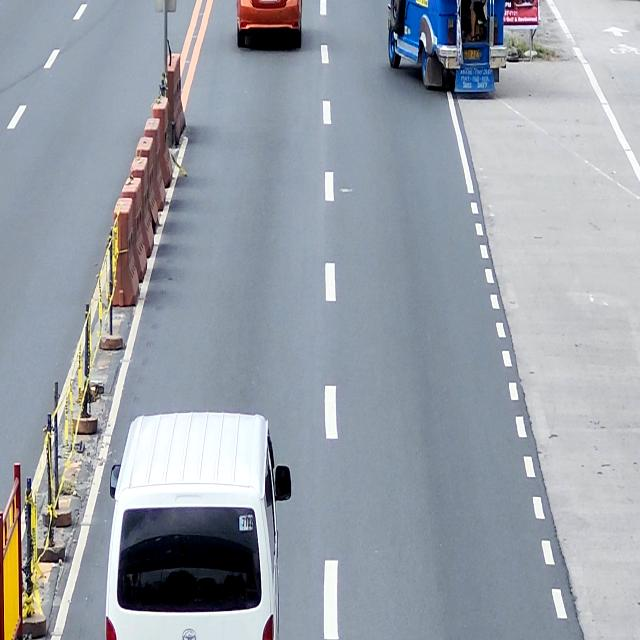Car: (103, 409, 293, 640), (236, 0, 303, 50)
Jeep: (387, 0, 507, 94)
License-Plate: (462, 48, 480, 60)
